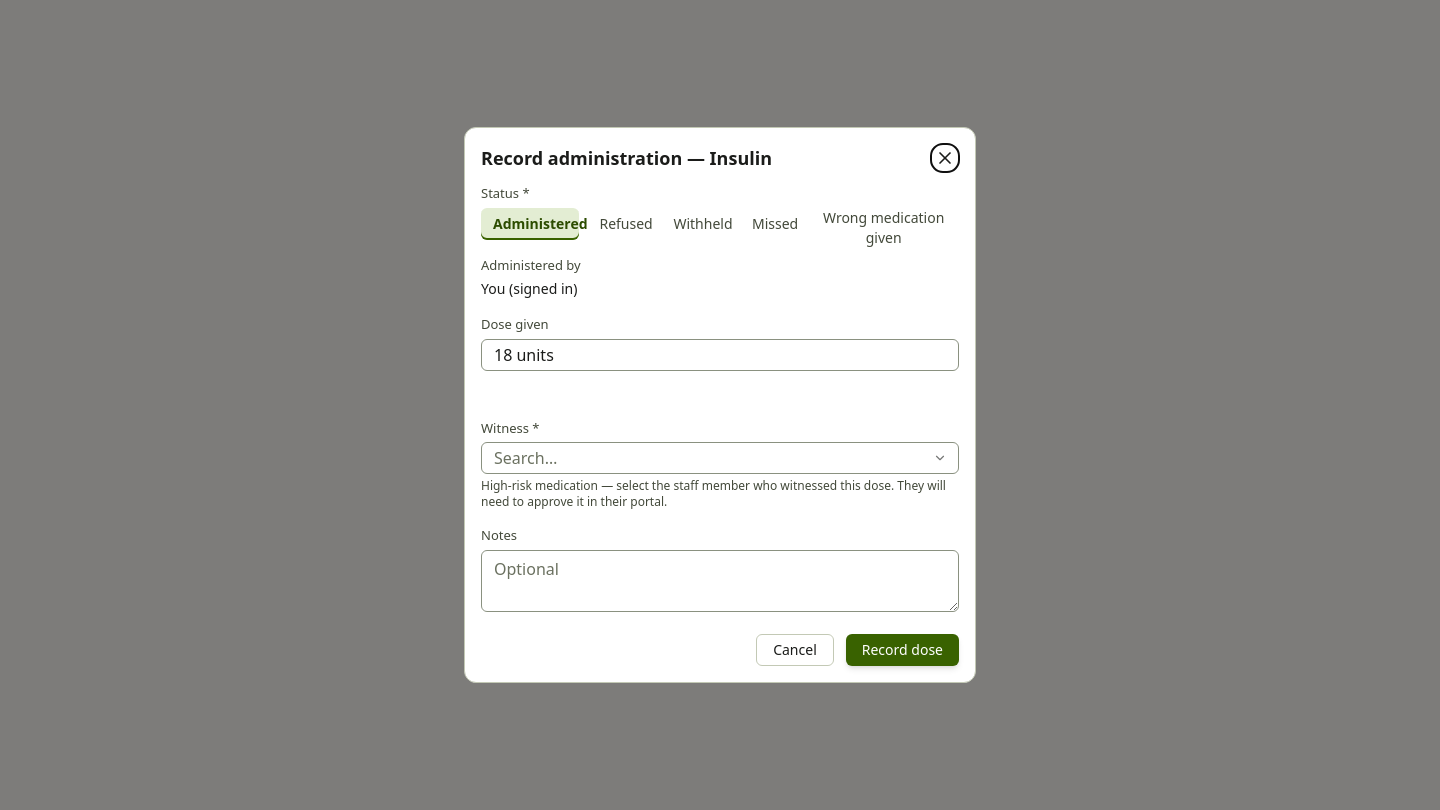
Test case: RecordAdministrationModal witness picker › excludes the signed-in user from the witness picker when their own id matches a picker entry
Click the dropdown labelled "Witness *" at (720, 458), box [481,442,959,474]
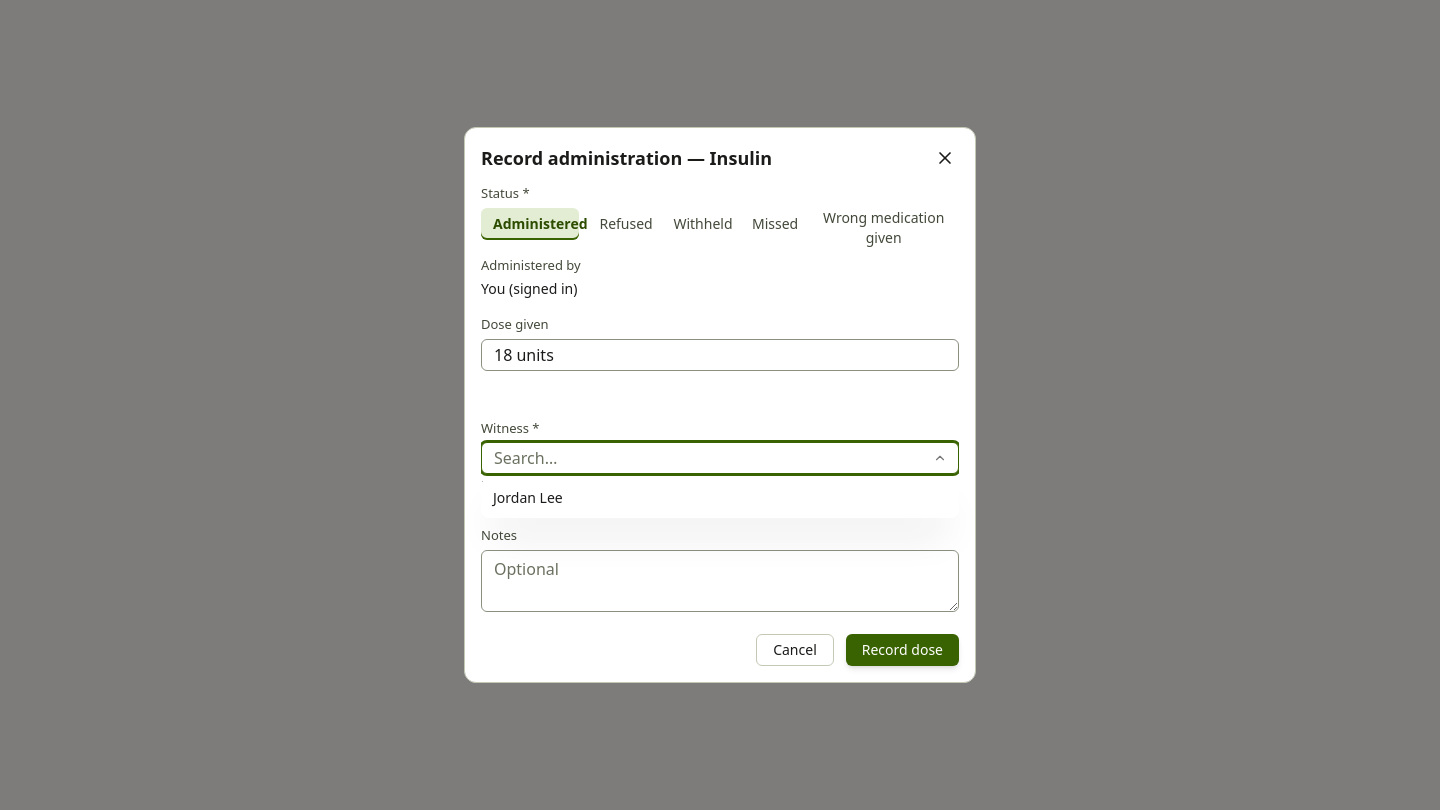
Result: the option "Jordan Lee" is shown at [493,488,563,507]
